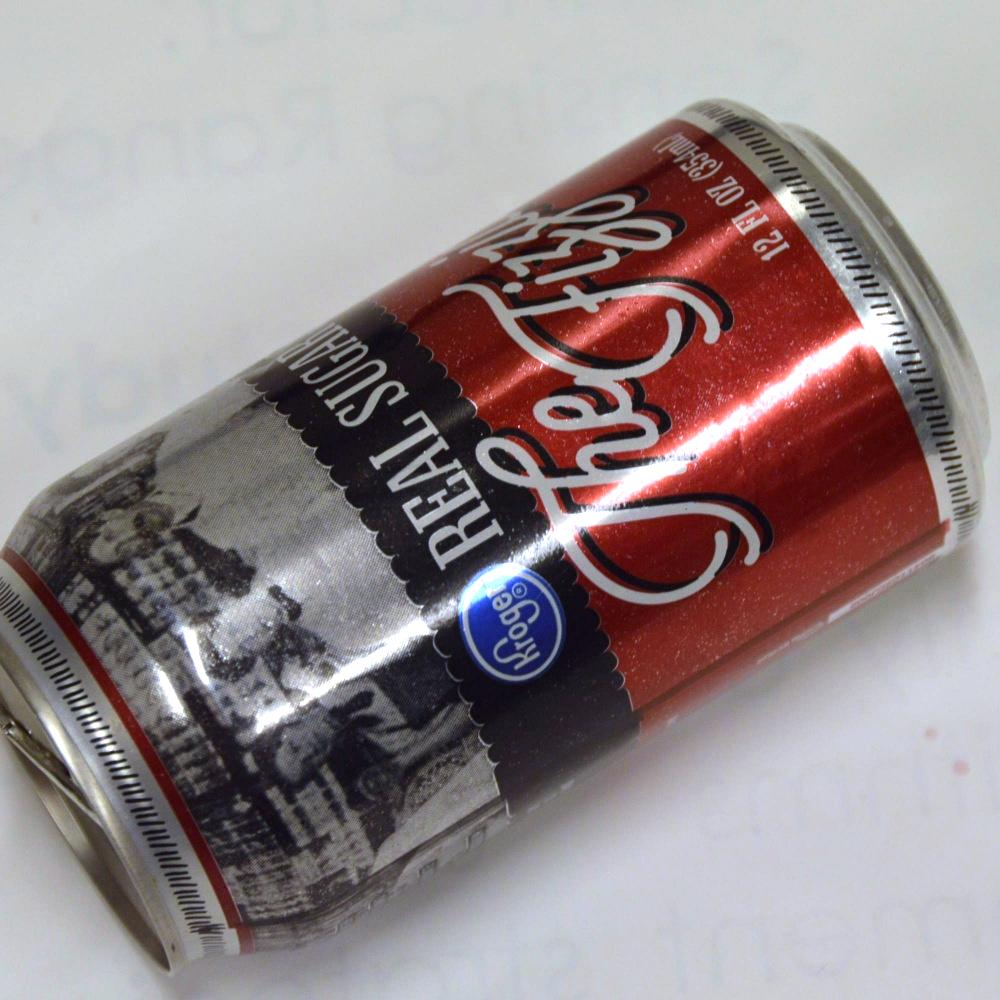Metal: (50, 102, 971, 893)
